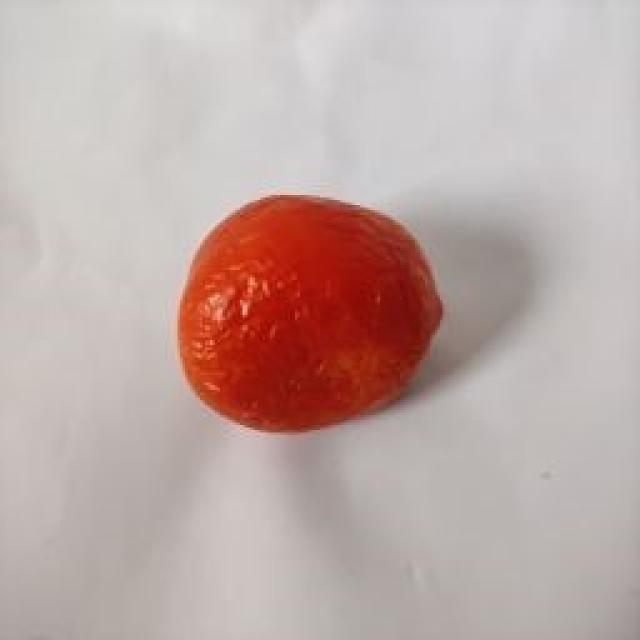overripe: (173, 189, 445, 434)
